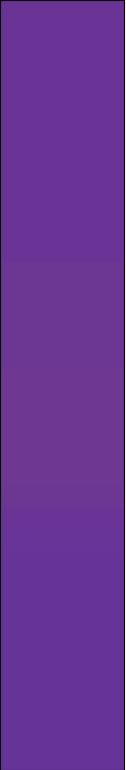safe: (8, 5, 115, 760)
